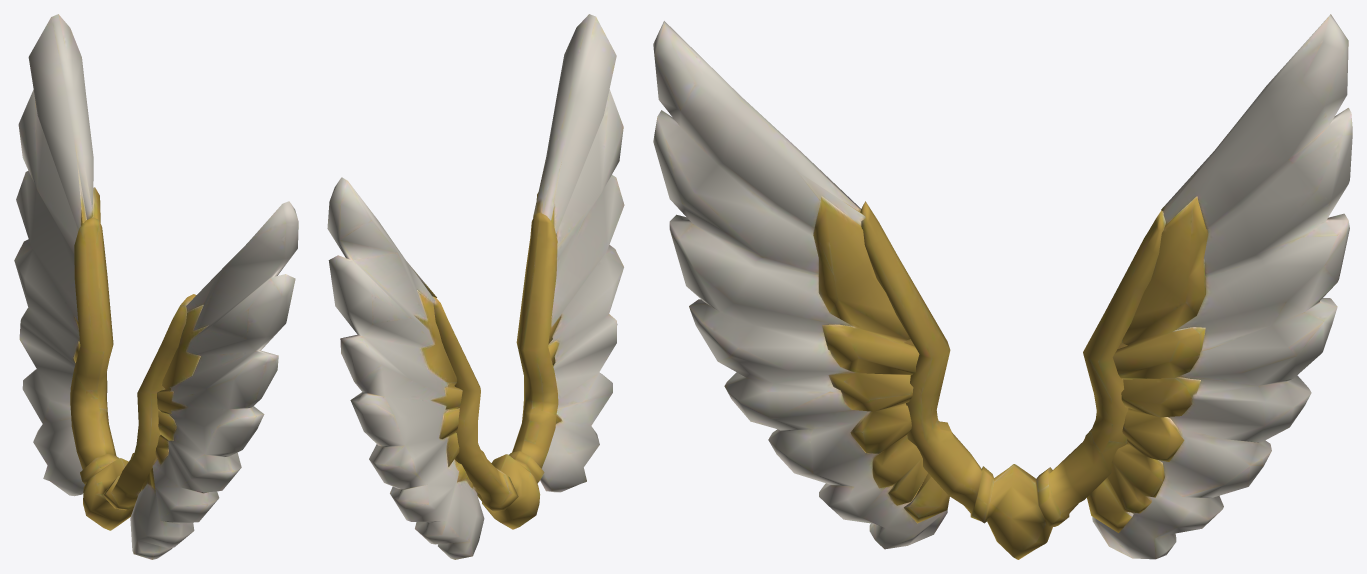
File: hover_angel_wings.glb
3 views of the same model, side by side, from view 1: azimuth 30°, elevation 25°; view 2: azimuth 150°, elevation 25°; view 3: azimuth 270°, elevation 25° (orthographic). The views are drawn at different scales.
Visible parts, largest first — view 1: wing.l, wing.r; view 2: wing.l, wing.r; view 3: wing.r, wing.l.
Part boxes in pixels (box(x1,y1,x2,y2)): wing.l: box(14, 125, 269, 559); wing.r: box(18, 14, 298, 469); wing.l: box(364, 56, 624, 559); wing.r: box(327, 14, 616, 528); wing.r: box(653, 14, 1352, 557); wing.l: box(689, 201, 1308, 559).
Size of the model in its own units: 0.3597 by 1.4 by 1.52.
1 material, 1 textured.
